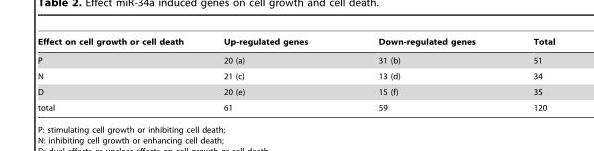table: (37, 37, 554, 111)
table column: (37, 37, 203, 111), (342, 37, 503, 111), (203, 37, 342, 111), (503, 37, 554, 111)
table column header: (37, 37, 554, 50)
table row: (37, 50, 554, 68), (37, 83, 554, 99), (37, 68, 554, 83), (37, 37, 554, 50), (37, 99, 554, 111)
